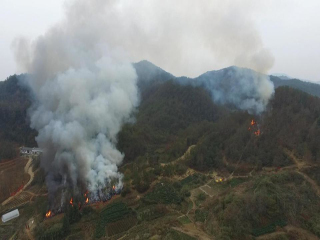smoke: (14, 4, 140, 200), (199, 2, 278, 117)
